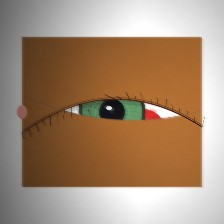hemorrhage_spot: (97, 91, 171, 151)
